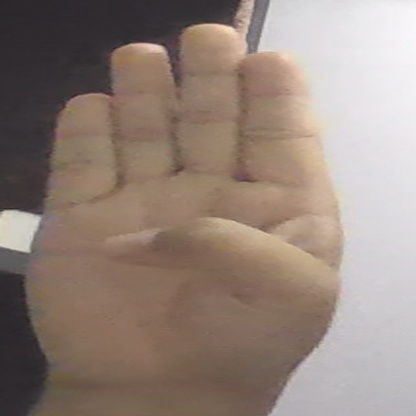B: (25, 24, 342, 402)
